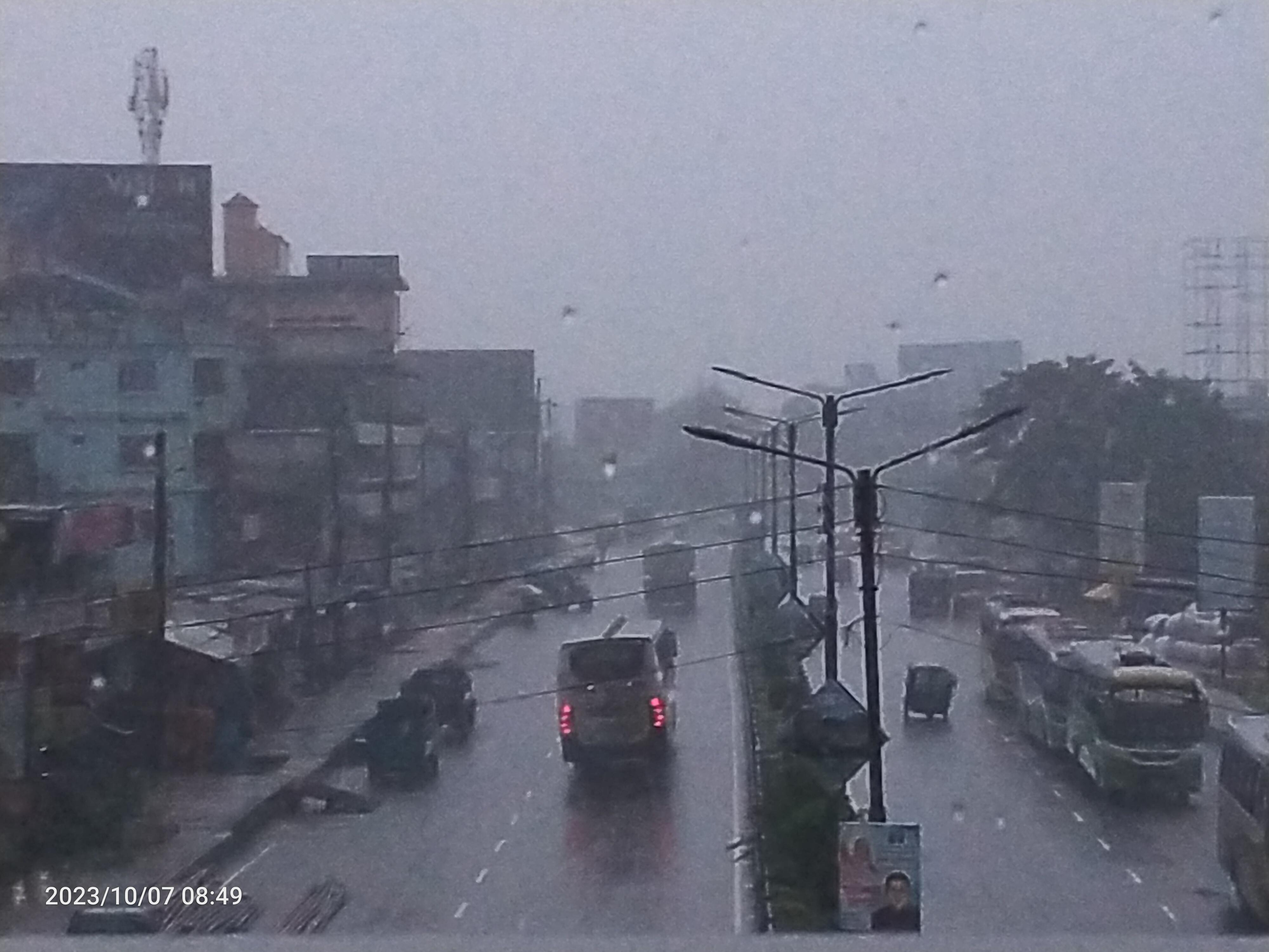Bus: (1042, 622, 1222, 832), (529, 606, 719, 801), (979, 600, 1134, 763), (1189, 698, 1269, 937), (627, 515, 734, 634), (896, 548, 976, 638)
Truck: (340, 689, 444, 801), (388, 654, 485, 745)
